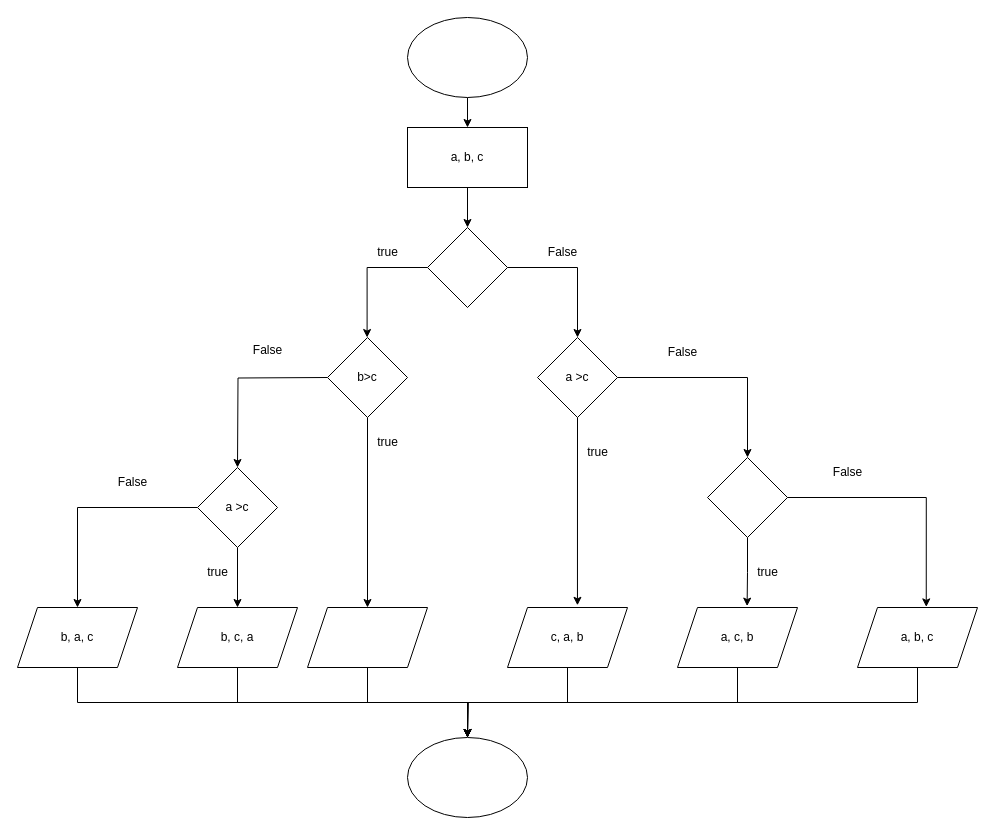
Some shapes in this 995 by 835 pixel diagram are drawn without their labels. Here are the shapes that lost their labels. From the top down, the centre of each, then its label:
(467,57): Start
(467,267): a > b
(747,497): b > c
(367,637): c, b, a
(467,777): END
